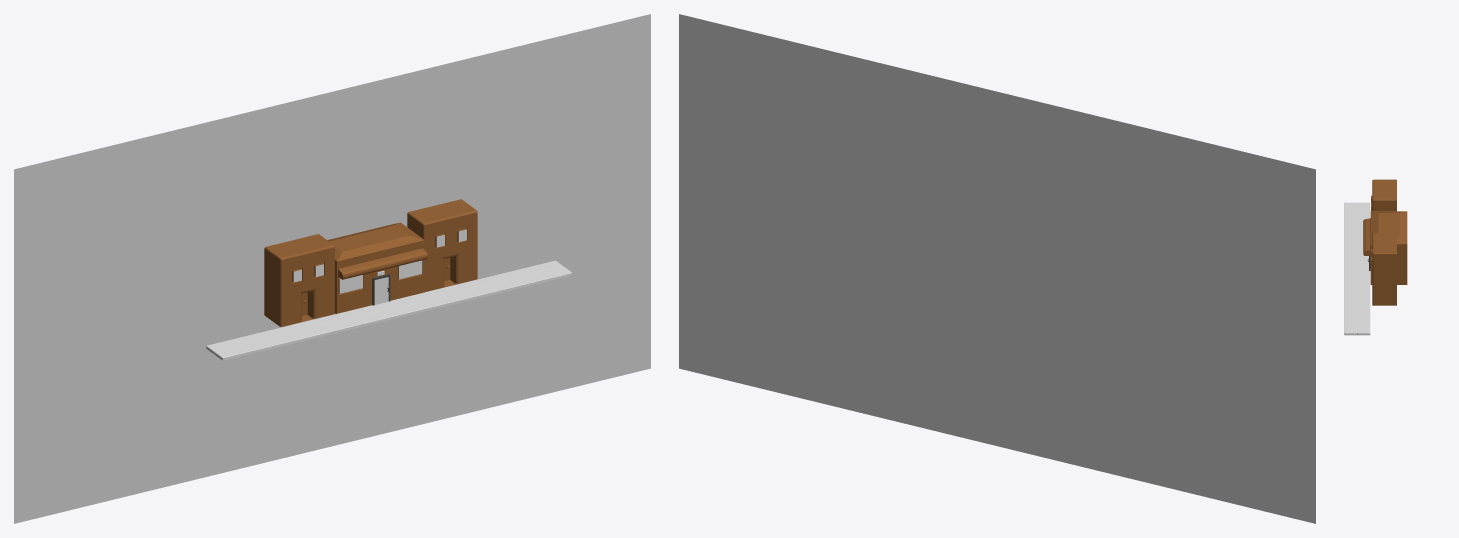
Rendered from title_scene.fbx.
3 views of the same model, side by side, from view 1: azimuth 30°, elevation 25°; view 2: azimuth 150°, elevation 25°; view 3: azimuth 270°, elevation 25° (orthographic). The views are drawn at different scales.
Visible parts, largest first — view 1: Plane, Sidewalk, Building, Building_left, building_right; view 2: Plane; view 3: Sidewalk, building_right, Building, Building_left.
Part boxes in pixels (x1,y1,x2,y2): Plane: (14, 14, 650, 523); Sidewalk: (206, 260, 571, 360); Building: (327, 222, 427, 313); Building_left: (264, 234, 334, 326); building_right: (407, 199, 477, 291); Plane: (679, 14, 1315, 523); Sidewalk: (1344, 202, 1370, 335); building_right: (1371, 233, 1396, 305); Building: (1363, 211, 1407, 284); Building_left: (1371, 179, 1396, 211).
Size of the model in its own units: 4503 by 2395 by 800.
